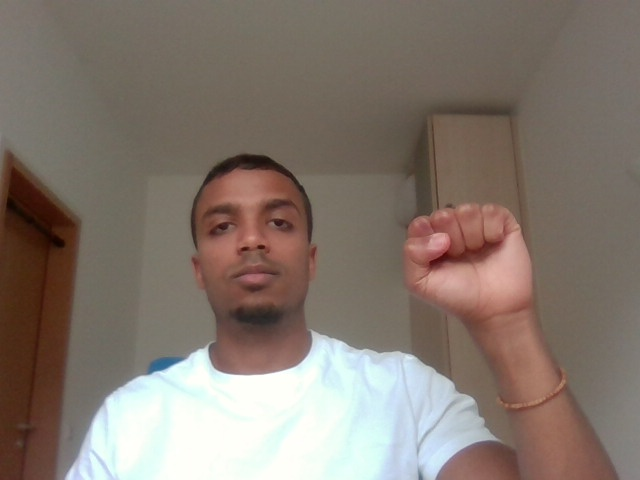neutral: (392, 197, 563, 331)
